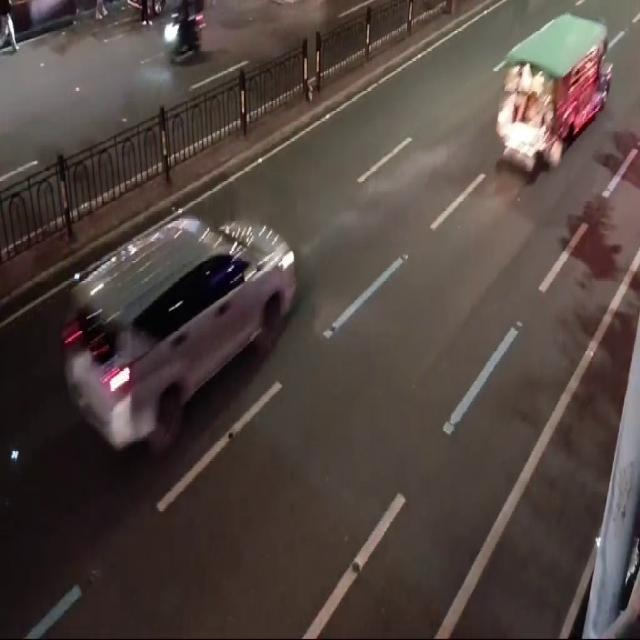car: (54, 189, 339, 494)
jeepney: (485, 0, 618, 179)
